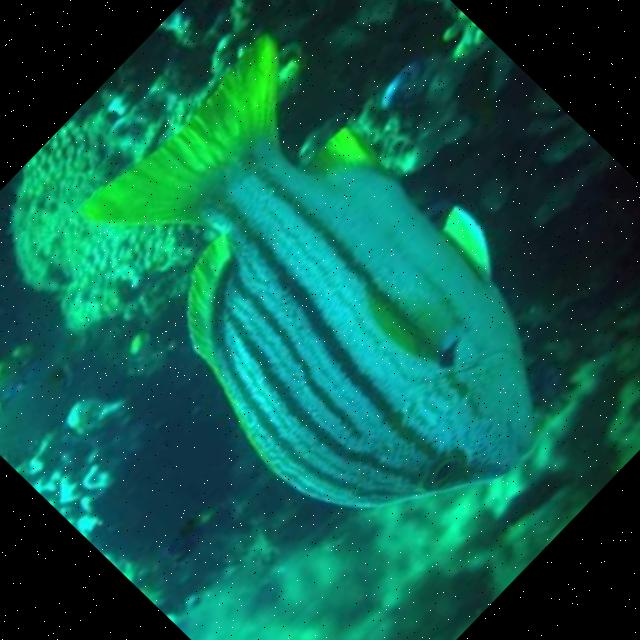ikan: (38, 16, 620, 594)
